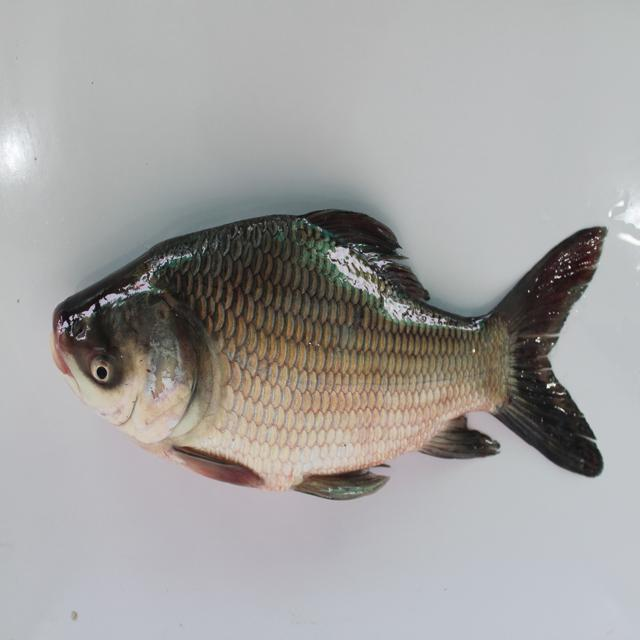Catla: (41, 206, 620, 505)
